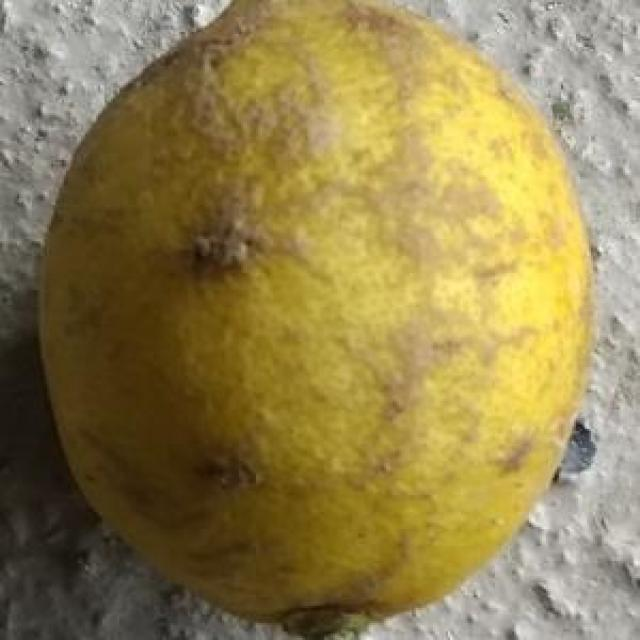lemon: (32, 1, 596, 640)
